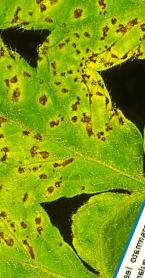Tomato leaf bacterial spot: (0, 20, 145, 239)
